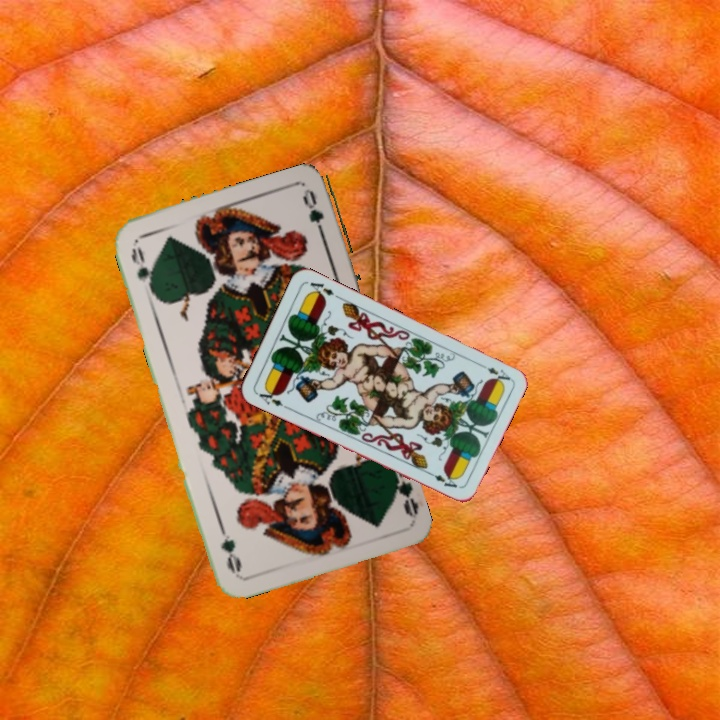EA: (475, 361, 513, 386), (252, 385, 286, 409)
GO: (389, 463, 421, 521), (126, 243, 157, 296)
